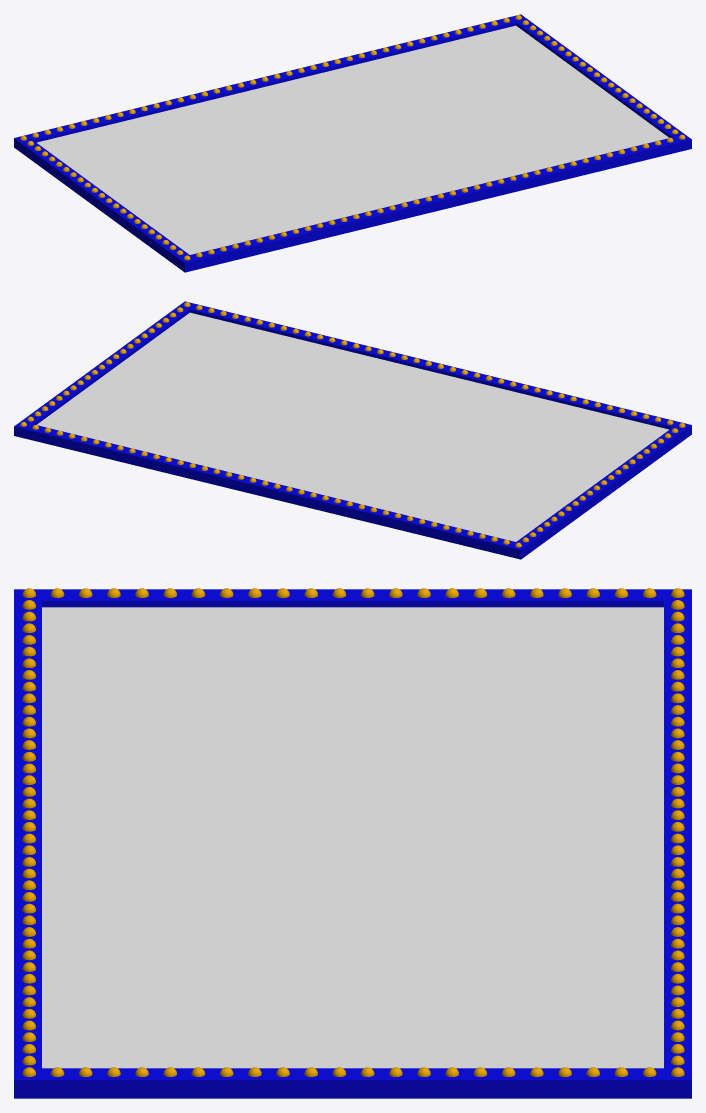
Rendered from ViewingScreen.fbx.
The picture shows the model from 3 angles, top to bottom: view 1: azimuth 30°, elevation 25°; view 2: azimuth 150°, elevation 25°; view 3: azimuth 270°, elevation 25°; orthographic projection. The views are drawn at different scales.
Parts seen in each view (by area): view 1: Icosphere; view 2: Icosphere; view 3: Icosphere.
Part boxes in pixels (x1,y1,x2,y2): Icosphere: [14, 14, 691, 272]; Icosphere: [14, 301, 691, 559]; Icosphere: [14, 588, 691, 1098].
Size of the model in its own units: 1680 by 40 by 981.
